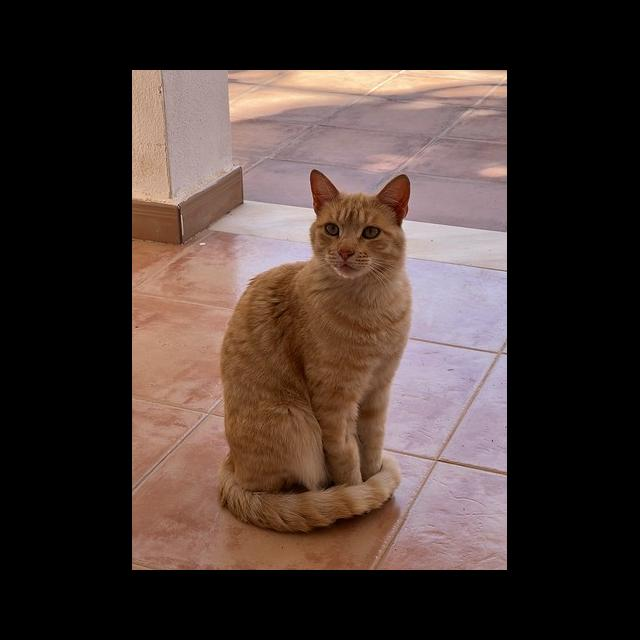animals: (217, 169, 412, 531)
